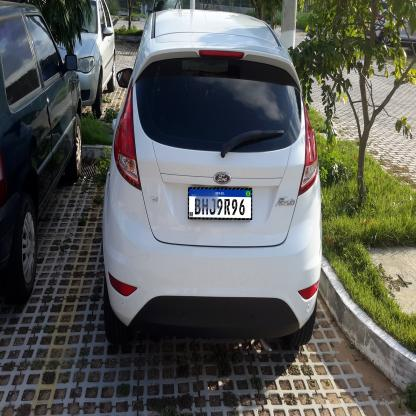PlacaM: (188, 187, 252, 220)
